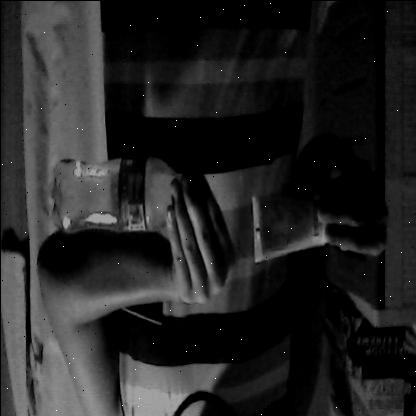Plastic Bottle: (41, 143, 213, 247)
